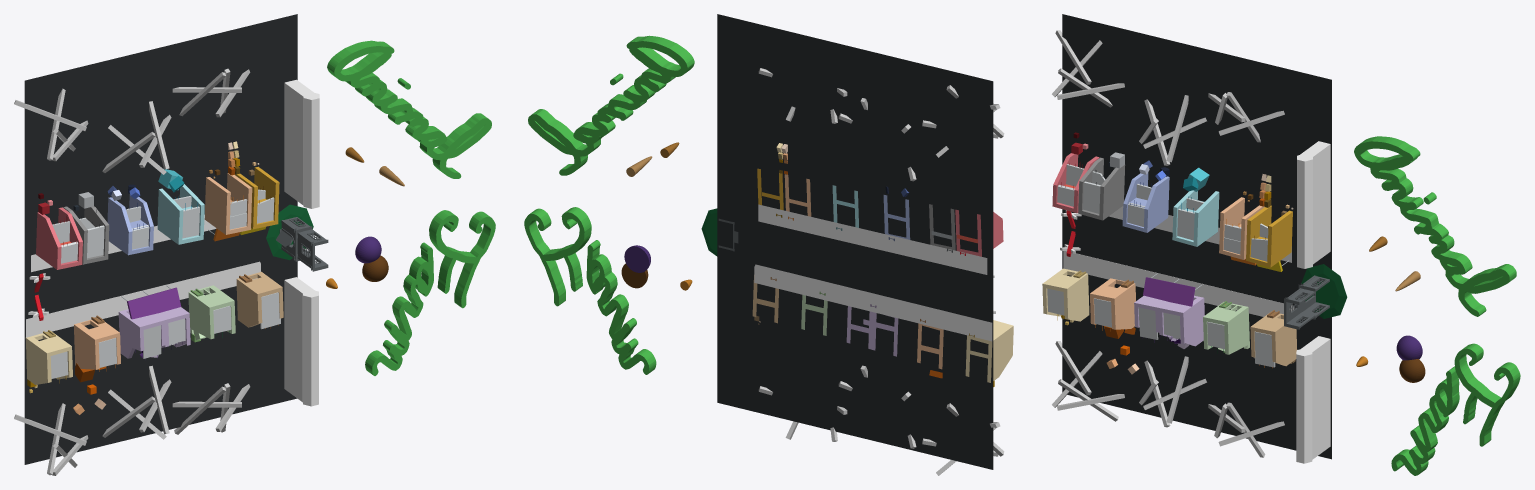
File: tinker.obj
3 views of the same model, side by side, from view 1: azimuth 30°, elevation 25°; view 2: azimuth 150°, elevation 25°; view 3: azimuth 330°, elevation 25° (orthographic). The views are drawn at different scales.
Parts seen in each view (by area): view 1: group_0_2829873, group_0_16448250, group_0_4634441, group_0_0, group_0_14541540, group_0_16500122, group_0_13877221, group_0_11452141, group_0_16311991, group_0_6383466, group_0_15235460, group_0_14860437 (+8 smaller); view 2: group_0_2829873, group_0_4634441, group_0_16448250, group_0_0, group_0_16311991, group_0_16500122, group_0_13877221, group_0_15235460, group_0_4796018, group_0_1206582; view 3: group_0_2829873, group_0_16448250, group_0_4634441, group_0_0, group_0_14541540, group_0_16500122, group_0_13877221, group_0_14789940, group_0_11452141, group_0_16311991, group_0_13165757, group_0_9868950 (+8 smaller).
Part boxes in pixels (left/top/right/bottom): group_0_2829873: left=24, top=14, right=297, bottom=464; group_0_16448250: left=26, top=79, right=319, bottom=406; group_0_4634441: left=327, top=40, right=495, bottom=375; group_0_0: left=14, top=68, right=250, bottom=475; group_0_14541540: left=50, top=189, right=280, bottom=378; group_0_16500122: left=74, top=173, right=252, bottom=369; group_0_13877221: left=118, top=307, right=190, bottom=358; group_0_11452141: left=107, top=194, right=153, bottom=255; group_0_16311991: left=25, top=331, right=72, bottom=384; group_0_6383466: left=276, top=217, right=328, bottom=271; group_0_15235460: left=36, top=207, right=82, bottom=269; group_0_14860437: left=236, top=271, right=283, bottom=327; group_0_2829873: left=717, top=14, right=993, bottom=469; group_0_4634441: left=524, top=35, right=694, bottom=374; group_0_16448250: left=754, top=204, right=995, bottom=341; group_0_0: left=758, top=68, right=1004, bottom=475; group_0_16311991: left=965, top=320, right=1013, bottom=382; group_0_16500122: left=784, top=174, right=943, bottom=369; group_0_13877221: left=846, top=306, right=898, bottom=356; group_0_15235460: left=955, top=209, right=1003, bottom=256; group_0_4796018: left=624, top=245, right=650, bottom=272; group_0_1206582: left=701, top=208, right=717, bottom=256; group_0_2829873: left=1062, top=14, right=1331, bottom=459; group_0_16448250: left=1060, top=141, right=1330, bottom=463; group_0_4634441: left=1354, top=136, right=1520, bottom=475; group_0_0: left=1052, top=30, right=1284, bottom=457; group_0_14541540: left=1047, top=164, right=1275, bottom=367; group_0_16500122: left=1090, top=197, right=1264, bottom=329; group_0_13877221: left=1134, top=295, right=1204, bottom=346; group_0_14789940: left=1057, top=205, right=1292, bottom=320; group_0_11452141: left=1122, top=172, right=1169, bottom=232; group_0_16311991: left=1042, top=268, right=1089, bottom=321; group_0_13165757: left=1203, top=302, right=1249, bottom=354; group_0_9868950: left=1078, top=157, right=1125, bottom=220.
Bounding box in the file's own units: 386 × 314 × 52.
